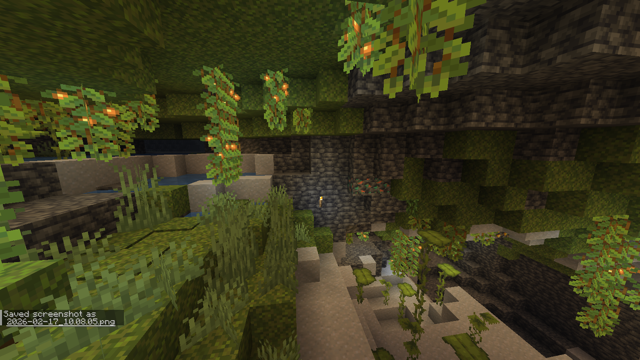copper: (347, 173, 393, 198)
